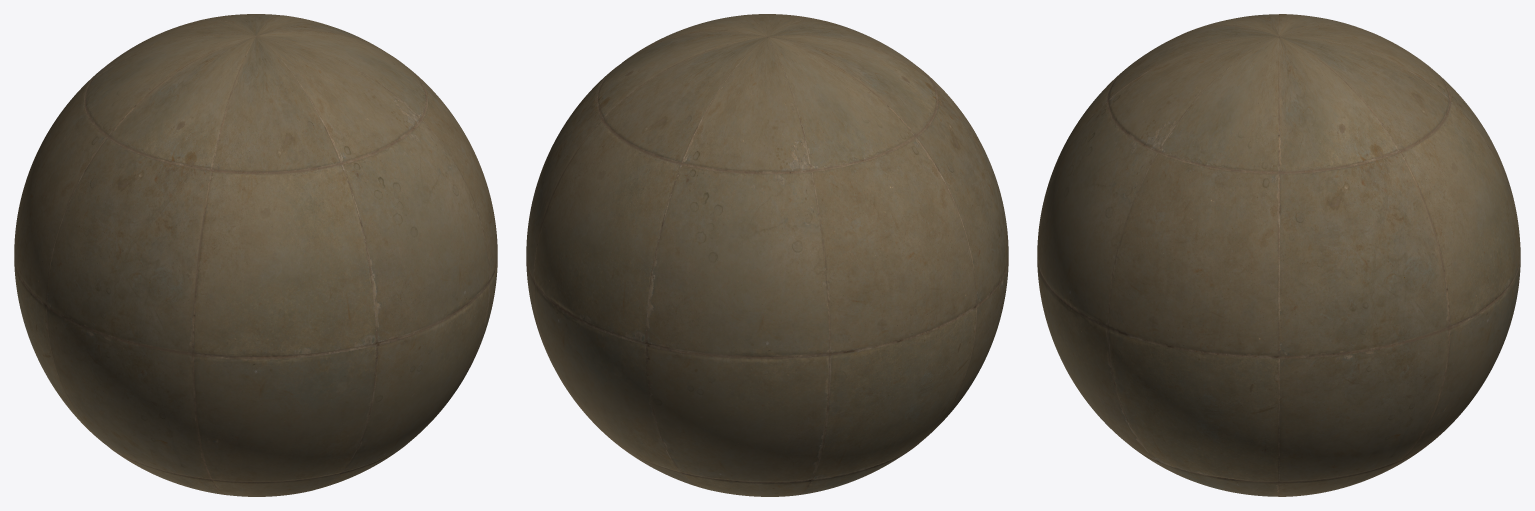
File: grey_tiles_2k.gltf
3 renders of one model, left to right at view 1: azimuth 30°, elevation 25°; view 2: azimuth 150°, elevation 25°; view 3: azimuth 270°, elevation 25°, orthographic.
Parts seen in each view (by area): view 1: sphere_gltf; view 2: sphere_gltf; view 3: sphere_gltf.
Boxes of the visible parts, <box> form: sphere_gltf: <box>14,14,497,496</box>; sphere_gltf: <box>526,14,1008,496</box>; sphere_gltf: <box>1037,14,1520,496</box>.
Size of the model in its own units: 2.21 by 2.2 by 2.21.
Materials: 1 (1 with a texture image).
